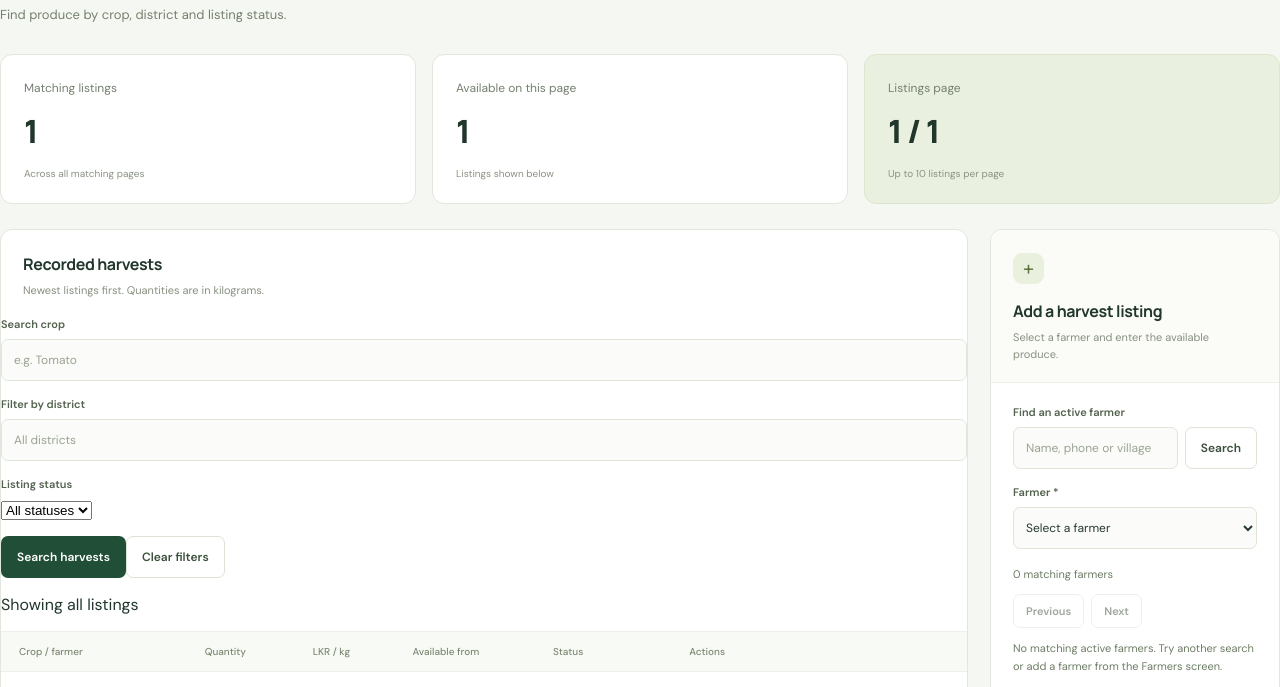
Test case: Harvest search › reloads available results after marking a matching listing sold
In the field labelled "Search crop": (484, 360) [1,339,967,381], type "  Tomato  "
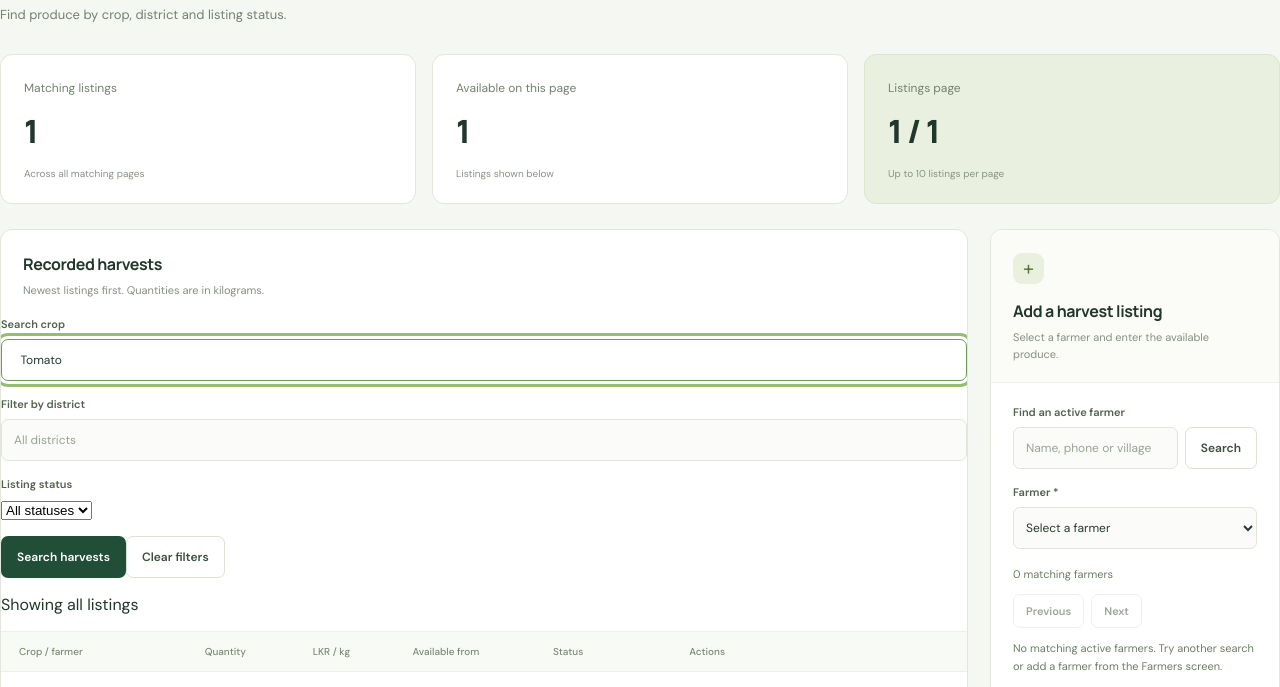
In the field labelled "Filter by district": (484, 440) [1,419,967,461], type "  Matale  "
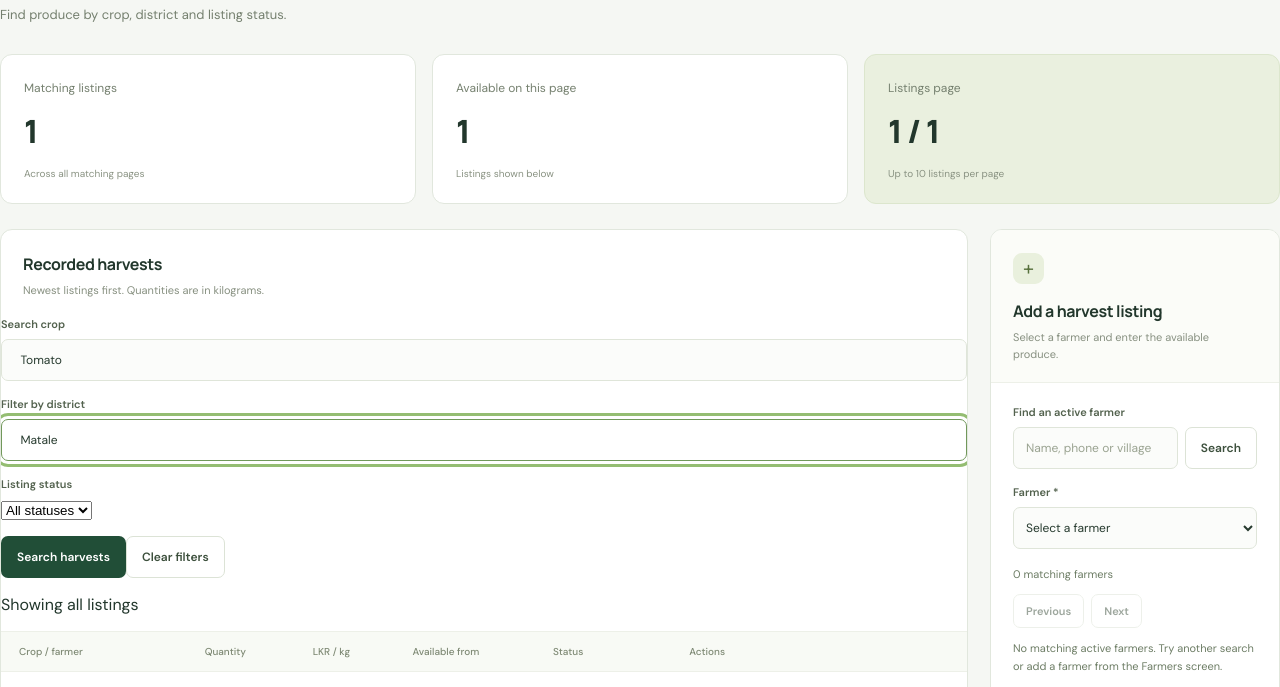
Select "Available" in the dropdown labelled "Listing status": (46, 511) [1,501,92,520]
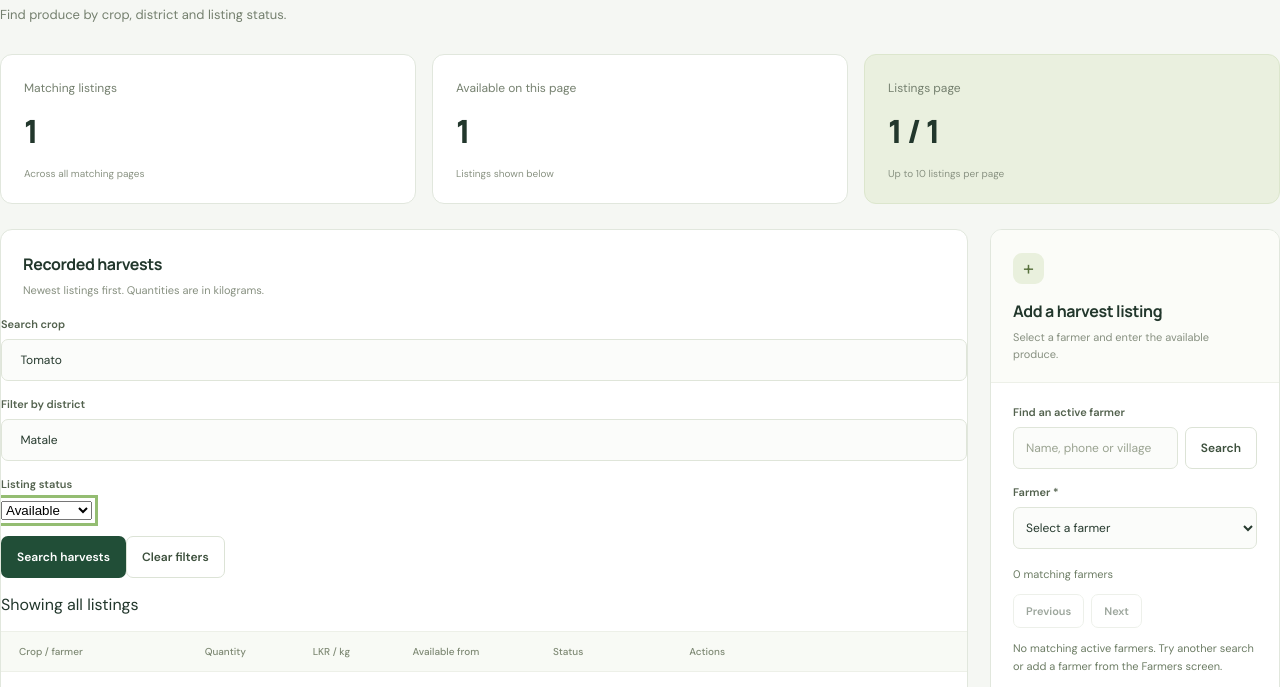
Click the button "Search harvests": (63, 557) [1,536,126,578]
(page scrolled)
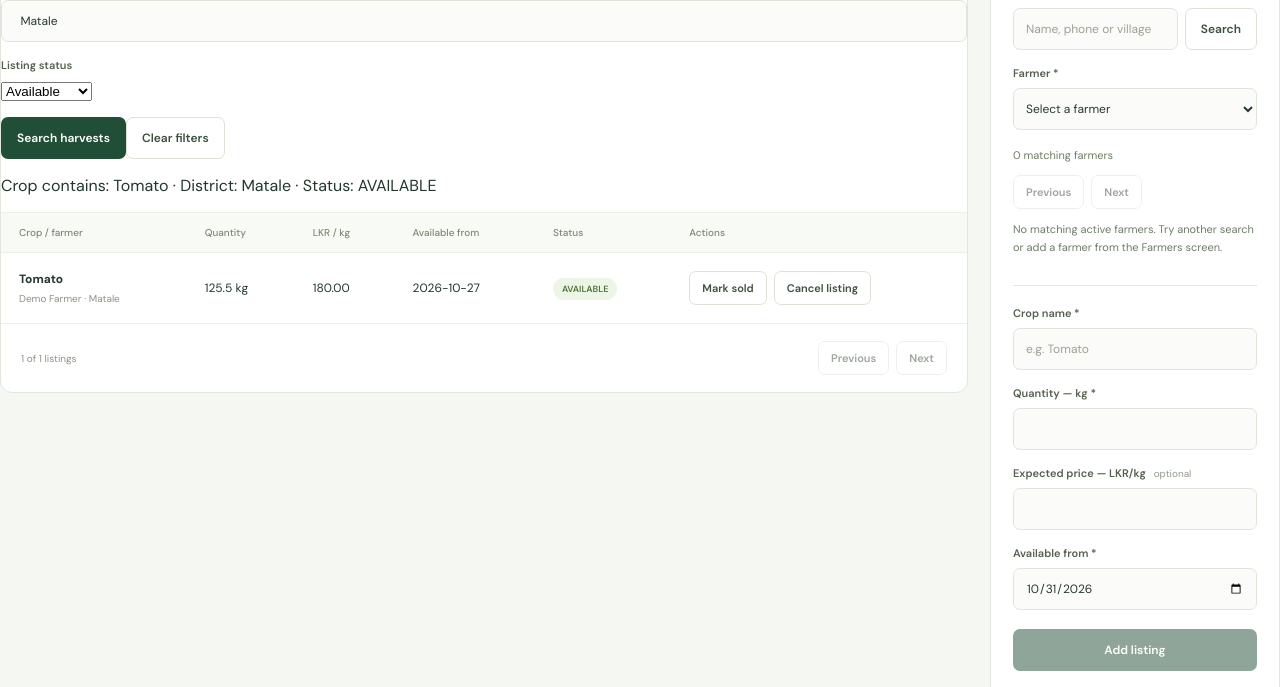
Click the button with aria-label "Mark Tomato as sold": (728, 288) [689,271,767,305]
(page scrolled)
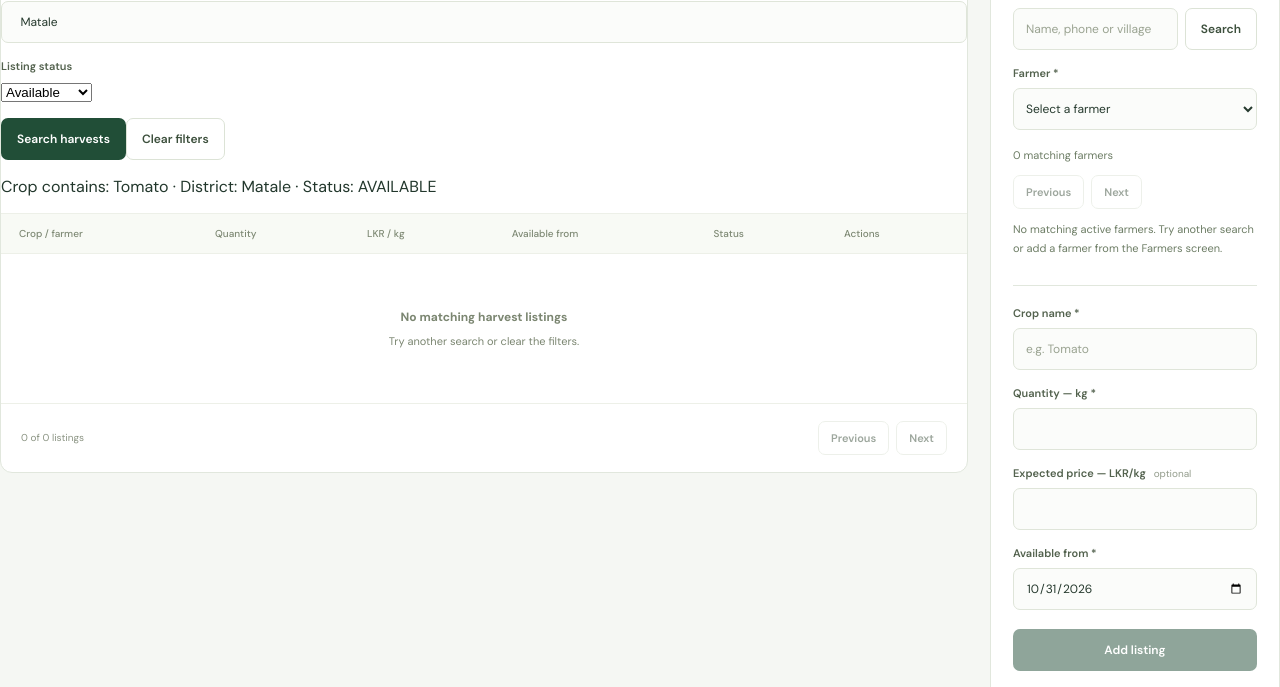
Expected: the text "No matching harvest listings" is shown, [400,309,568,325]
Expected: the text "0 of 0 listings" is shown, [21,431,84,444]
